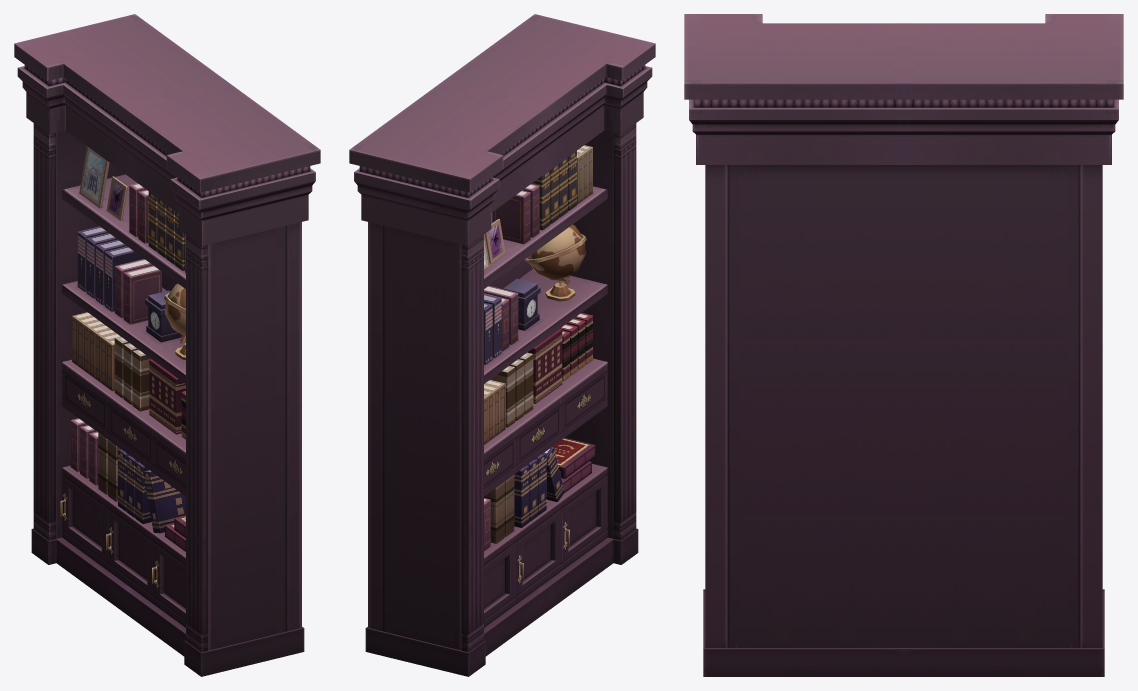
The model's file is my_gehennaparty_01_bookshelf_01.glb.
3 views of the same model, side by side, from view 1: azimuth 30°, elevation 25°; view 2: azimuth 150°, elevation 25°; view 3: azimuth 270°, elevation 25° (orthographic). The views are drawn at different scales.
Visible parts, largest first — view 1: my_gehennaparty_01_bookshelf_01; view 2: my_gehennaparty_01_bookshelf_01; view 3: my_gehennaparty_01_bookshelf_01.
Part boxes in pixels (<box>): my_gehennaparty_01_bookshelf_01: <box>14,14,320,676</box>; my_gehennaparty_01_bookshelf_01: <box>349,14,655,676</box>; my_gehennaparty_01_bookshelf_01: <box>684,14,1123,676</box>.
Size of the model in its own units: 0.00423 by 0.0169 by 0.0113.
Materials: 1 (1 with a texture image).
